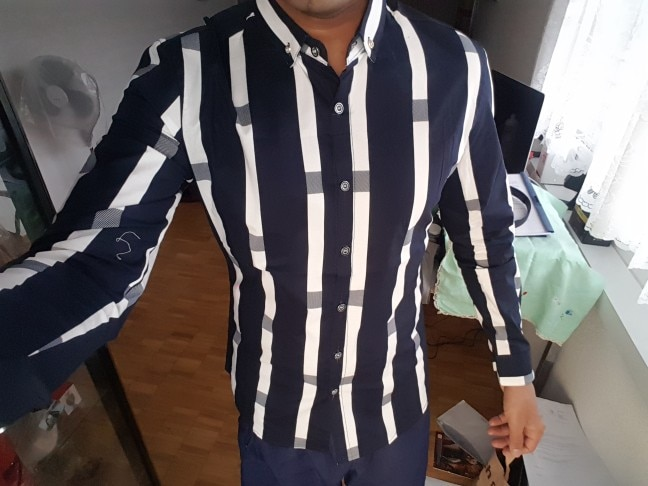shirts: (14, 3, 527, 448)
